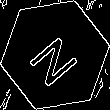N_NE: (25, 23, 85, 87)
